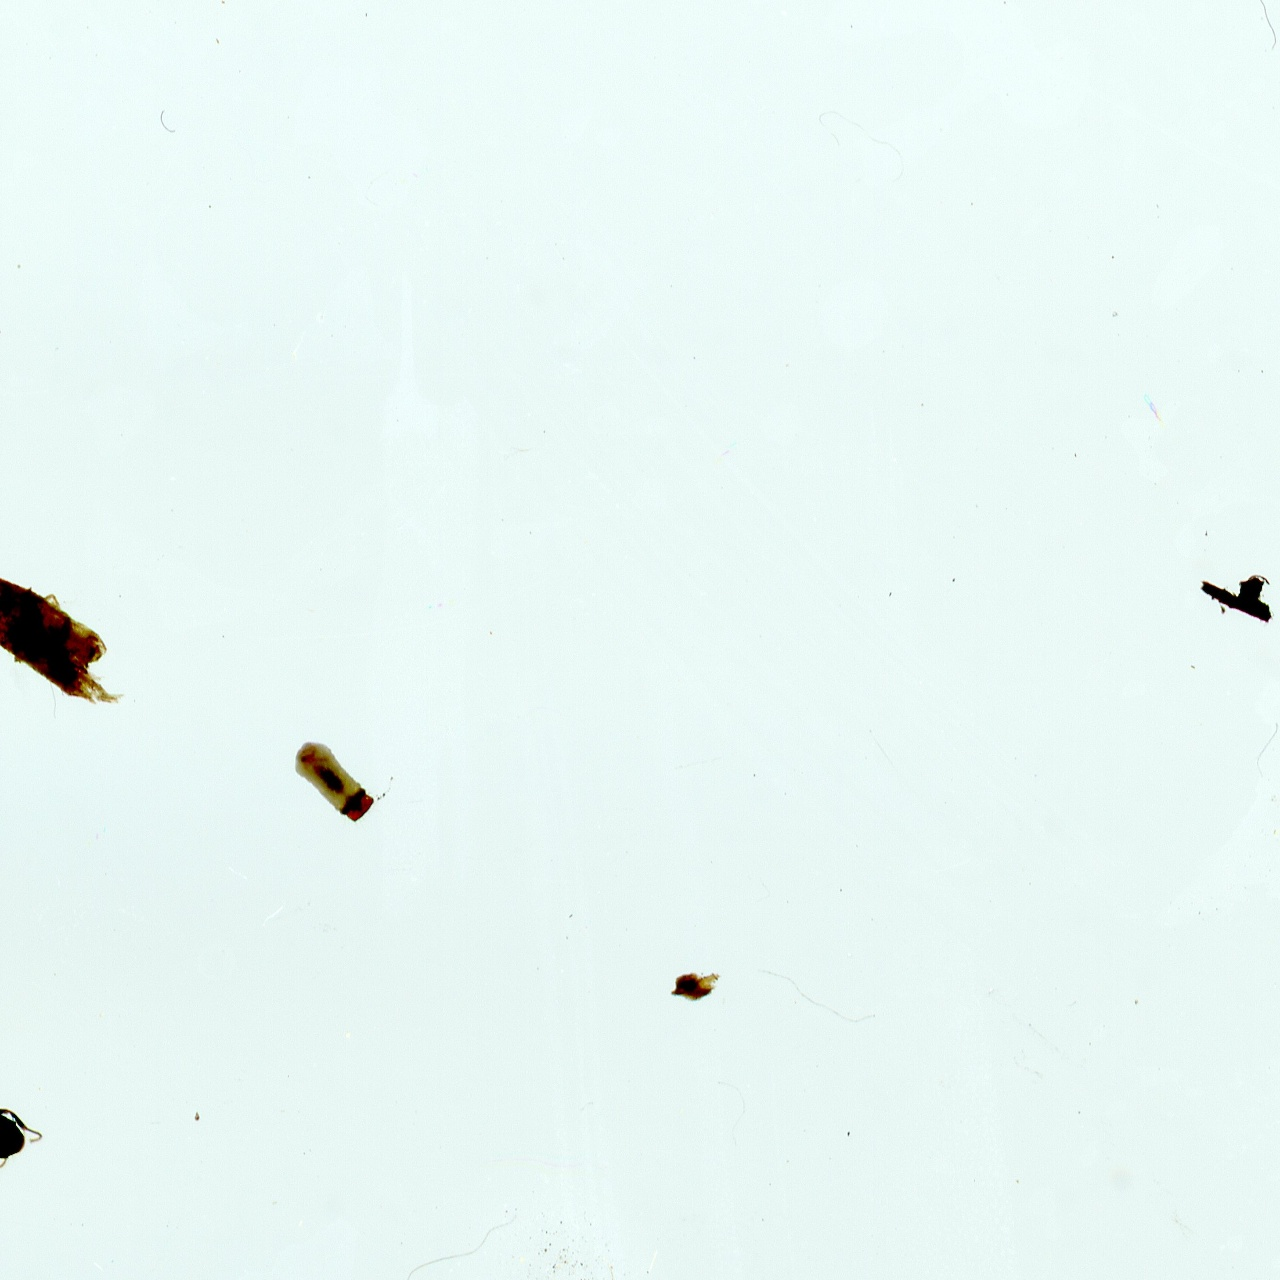arthropod: (271, 724, 402, 851), (0, 1053, 57, 1180)
